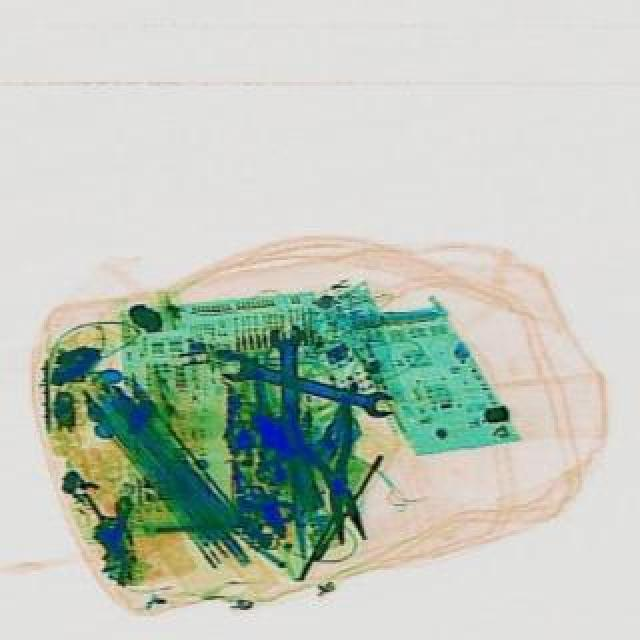scissors: (218, 348, 396, 420), (268, 322, 304, 426)
wrench: (282, 388, 380, 548)
